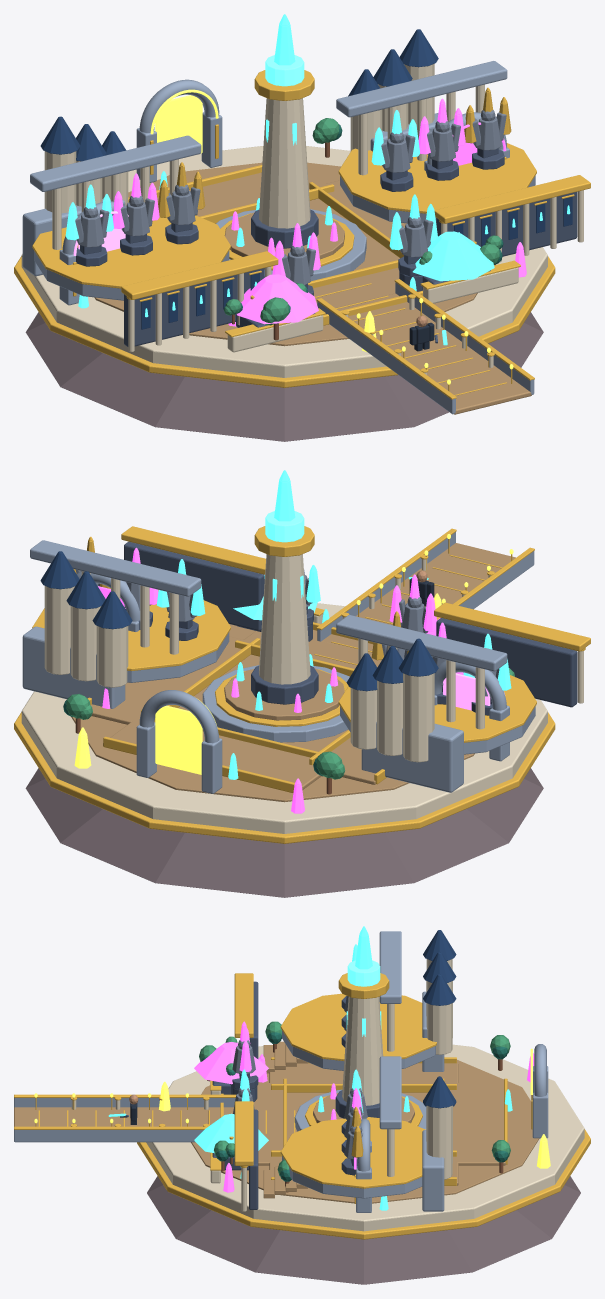
The model's file is Prismora_Capital_V3.fbx.
The picture shows the model from 3 angles, top to bottom: view 1: azimuth 30°, elevation 25°; view 2: azimuth 150°, elevation 25°; view 3: azimuth 270°, elevation 25°; orthographic projection. The views are drawn at different scales.
Visible parts, largest first — view 1: Empire_ImperialGold, Empire_CreamStone, Empire_FloatingRock, Empire_PaleStone, Empire_WarmTile, Empire_DarkStone, Empire_HeroStone, Empire_CyanEnergy, Empire_ImperialNavy, Empire_MagentaEnergy, Empire_GoldEnergy, Empire_EmeraldLeaves (+2 smaller); view 2: Empire_CreamStone, Empire_ImperialGold, Empire_PaleStone, Empire_FloatingRock, Empire_WarmTile, Empire_DarkStone, Empire_ImperialNavy, Empire_GoldEnergy, Empire_CyanEnergy, Empire_MagentaEnergy, Empire_HeroStone, Empire_EmeraldLeaves (+2 smaller); view 3: Empire_ImperialGold, Empire_CreamStone, Empire_WarmTile, Empire_FloatingRock, Empire_PaleStone, Empire_DarkStone, Empire_CyanEnergy, Empire_MagentaEnergy, Empire_ImperialNavy, Empire_HeroStone, Empire_EmeraldLeaves, Empire_GoldEnergy (+2 smaller).
Part boxes in pixels (box(x1,y1,x2,y2)): Empire_ImperialGold: box(14, 70, 590, 399); Empire_CreamStone: box(21, 63, 583, 377); Empire_FloatingRock: box(25, 312, 543, 441); Empire_PaleStone: box(22, 61, 535, 414); Empire_WarmTile: box(94, 162, 531, 414); Empire_DarkStone: box(76, 148, 577, 346); Empire_HeroStone: box(75, 110, 506, 285); Empire_CyanEnergy: box(65, 14, 570, 345); Empire_ImperialNavy: box(40, 29, 572, 329); Empire_MagentaEnergy: box(112, 98, 526, 326); Empire_GoldEnergy: box(150, 89, 513, 384); Empire_EmeraldLeaves: box(224, 118, 501, 325); Empire_CreamStone: box(21, 554, 583, 833); Empire_ImperialGold: box(14, 526, 590, 843); Empire_PaleStone: box(22, 532, 535, 793); Empire_FloatingRock: box(25, 768, 543, 897); Empire_WarmTile: box(71, 543, 515, 802); Empire_DarkStone: box(124, 541, 577, 715); Empire_ImperialNavy: box(40, 551, 438, 691); Empire_GoldEnergy: box(74, 534, 513, 774); Empire_CyanEnergy: box(157, 470, 511, 779); Empire_MagentaEnergy: box(98, 547, 463, 813); Empire_HeroStone: box(76, 569, 499, 696); Empire_EmeraldLeaves: box(66, 668, 514, 779); Empire_ImperialGold: box(14, 973, 590, 1239); Empire_CreamStone: box(71, 959, 584, 1231); Empire_WarmTile: box(14, 1041, 539, 1203); Empire_FloatingRock: box(147, 1176, 580, 1284); Empire_PaleStone: box(14, 931, 548, 1212); Empire_DarkStone: box(120, 981, 379, 1209); Empire_CyanEnergy: box(108, 926, 512, 1210); Empire_MagentaEnergy: box(194, 1021, 534, 1192); Empire_ImperialNavy: box(423, 930, 456, 1108); Empire_HeroStone: box(232, 996, 367, 1159); Empire_EmeraldLeaves: box(199, 1021, 510, 1176); Empire_GoldEnergy: box(34, 1048, 550, 1168).
Size of the model in its own units: 147 by 93.33 by 183.
